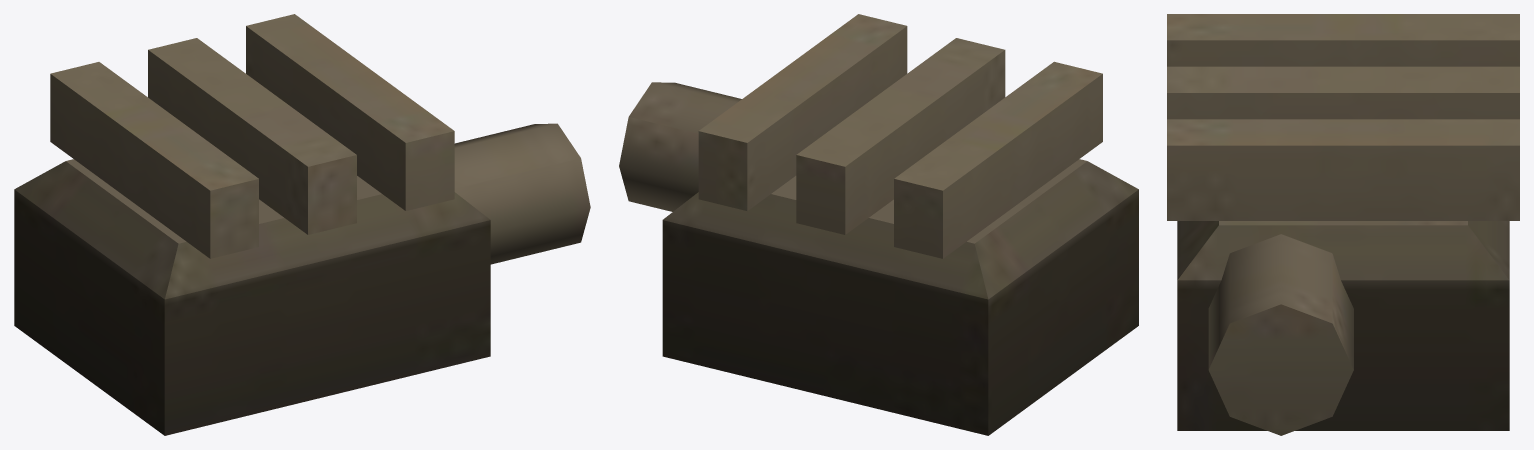
The model's file is engine-unit.glb.
3 renders of one model, left to right at view 1: azimuth 30°, elevation 25°; view 2: azimuth 150°, elevation 25°; view 3: azimuth 270°, elevation 25°, orthographic. The views are drawn at different scales.
Visible parts, largest first — view 1: engine-unit; view 2: engine-unit; view 3: engine-unit.
Boxes of the visible parts, bbox=[...] form: engine-unit: bbox=[14, 14, 590, 435]; engine-unit: bbox=[619, 14, 1138, 435]; engine-unit: bbox=[1167, 14, 1519, 435].
Size of the model in its own units: 0.27 by 0.14 by 0.17.
1 material, 1 textured.
